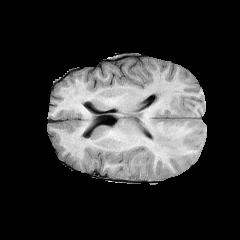glioma: (144, 78, 193, 168)
